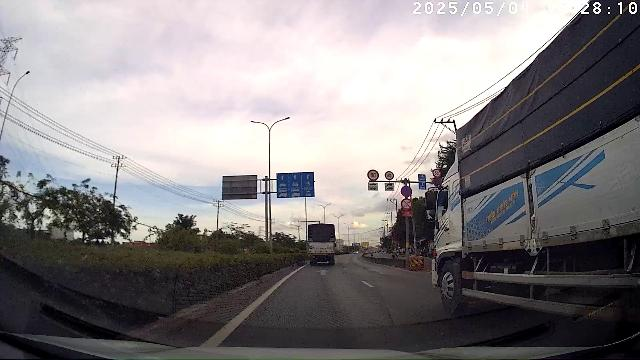127-toc-do-toi-da-50: (432, 168, 442, 178)
127-toc-do-toi-da-60: (385, 170, 395, 180)
127-toc-do-toi-da-80: (367, 168, 379, 180)
130-cam-dung-va-do-xe: (401, 185, 413, 197)
